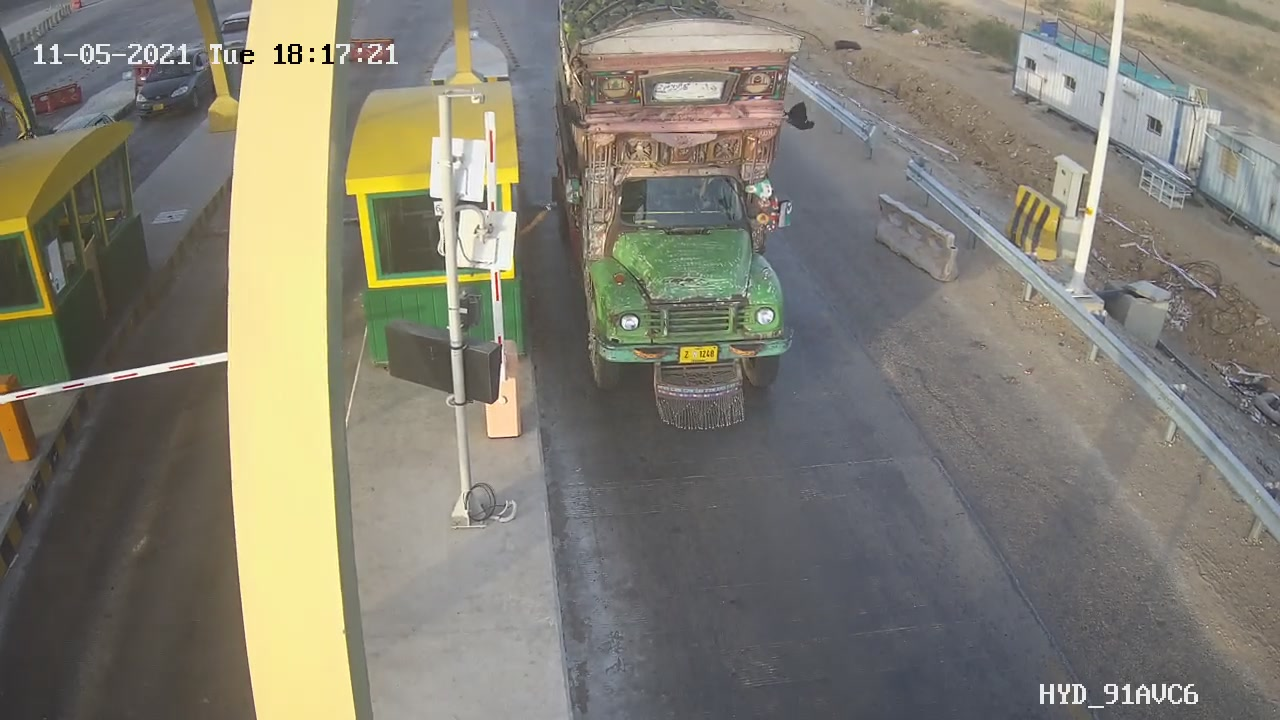F5: (543, 10, 827, 435)
